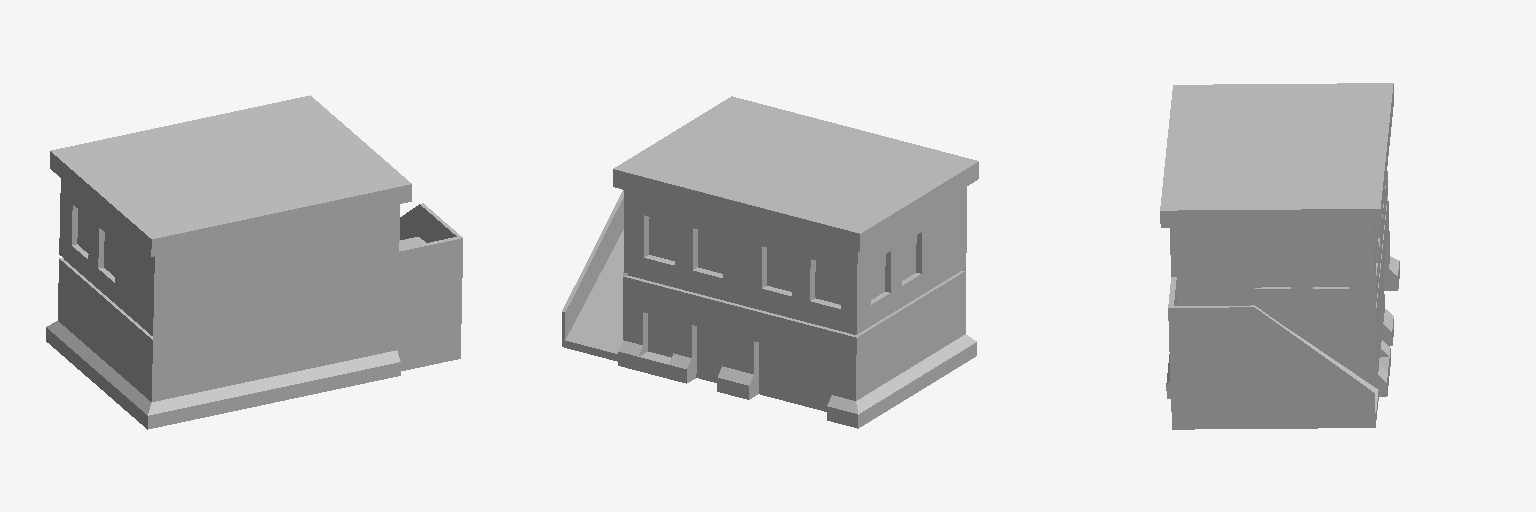
The model's file is house4.obj.
The picture shows the model from 3 angles: view 1: azimuth 30°, elevation 25°; view 2: azimuth 150°, elevation 25°; view 3: azimuth 270°, elevation 25°; orthographic projection.
Visible parts, largest first — view 1: pasted__houseRamp_null_ group7; view 2: pasted__houseRamp_null_ group7; view 3: pasted__houseRamp_null_ group7.
Part boxes in pixels (x1,y1,x2,y2): pasted__houseRamp_null_ group7: (46, 95, 462, 429); pasted__houseRamp_null_ group7: (562, 96, 978, 428); pasted__houseRamp_null_ group7: (1160, 83, 1399, 429).
Size of the model in its own units: 53.65 by 32.32 by 35.1.